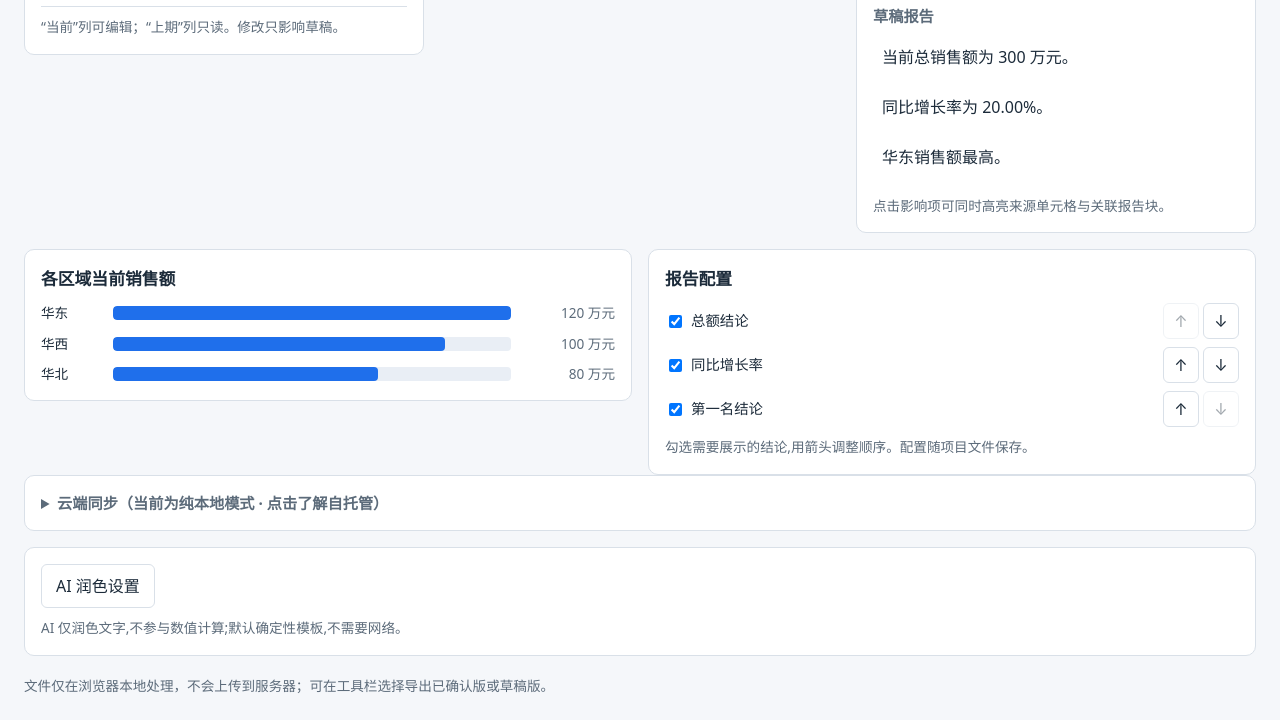
Test: AI polish (opt-in) › shows a fallback notice when the provider fails
(page scrolled)
Step 1. Click the button "AI 润色设置" → (98, 586), box [41,564,155,608]
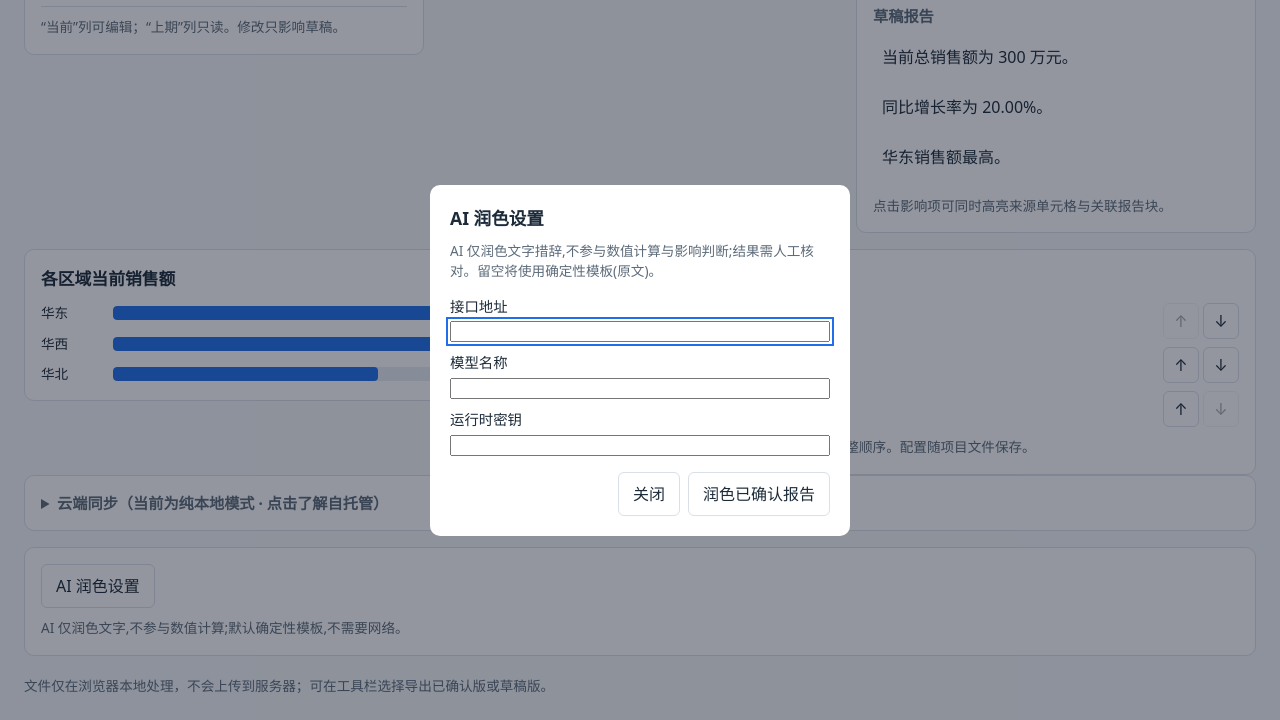
Step 2. Type "https://api.example.com/v1/polish" into the field labelled "接口地址" → (640, 332), box [450,321,830,342]
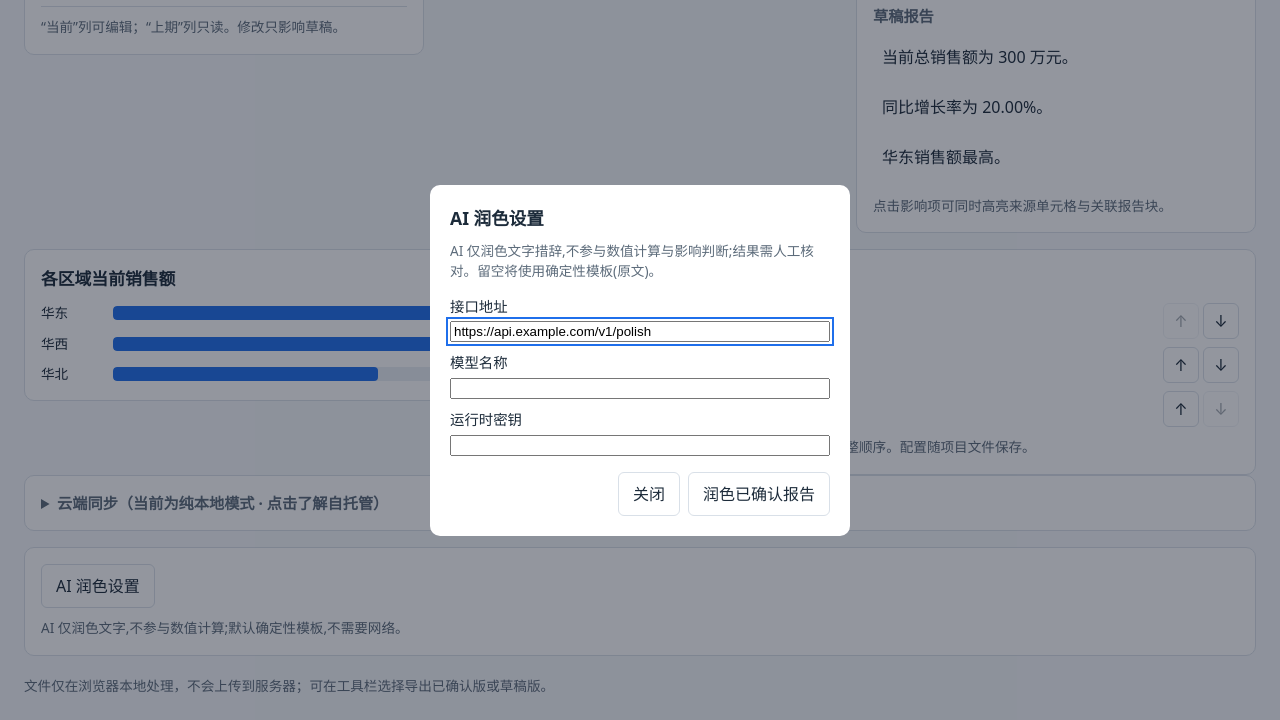
Step 3. Type "test-model" into the field labelled "模型名称" → (640, 388), box [450,378,830,399]
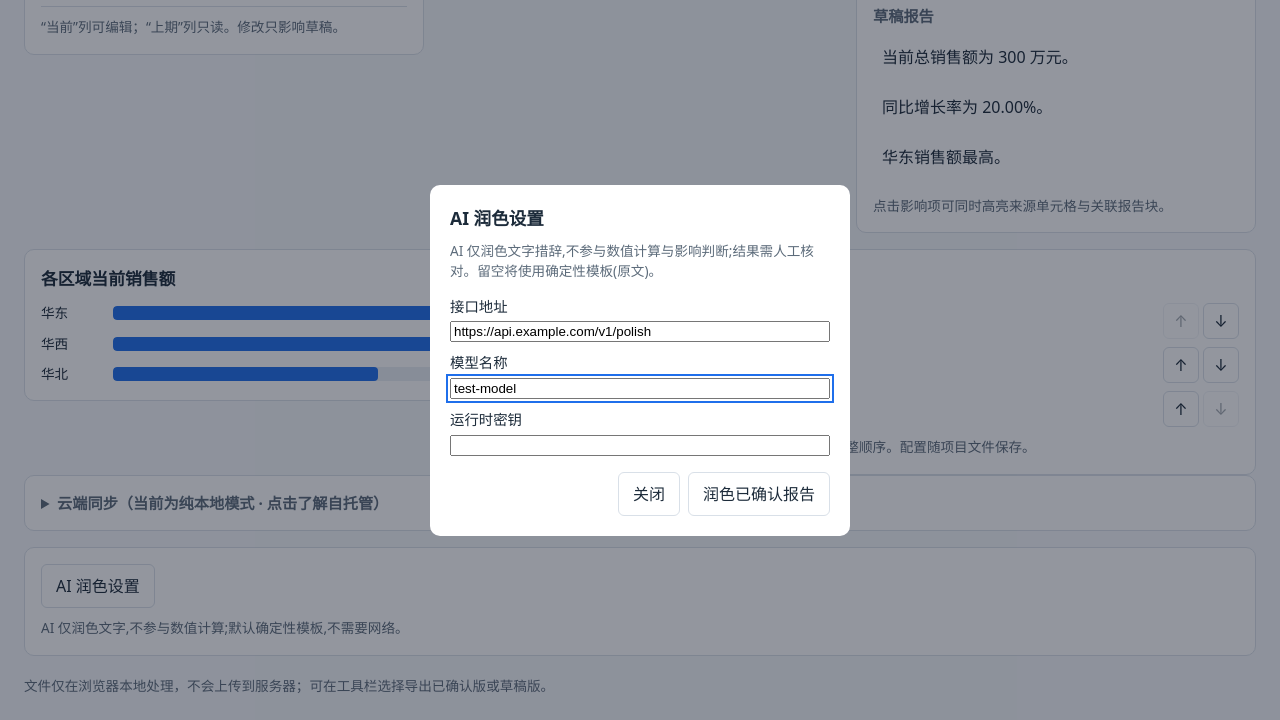
Step 4. Type "k" into the password field labelled "运行时密钥" → (640, 445), box [450,434,830,456]
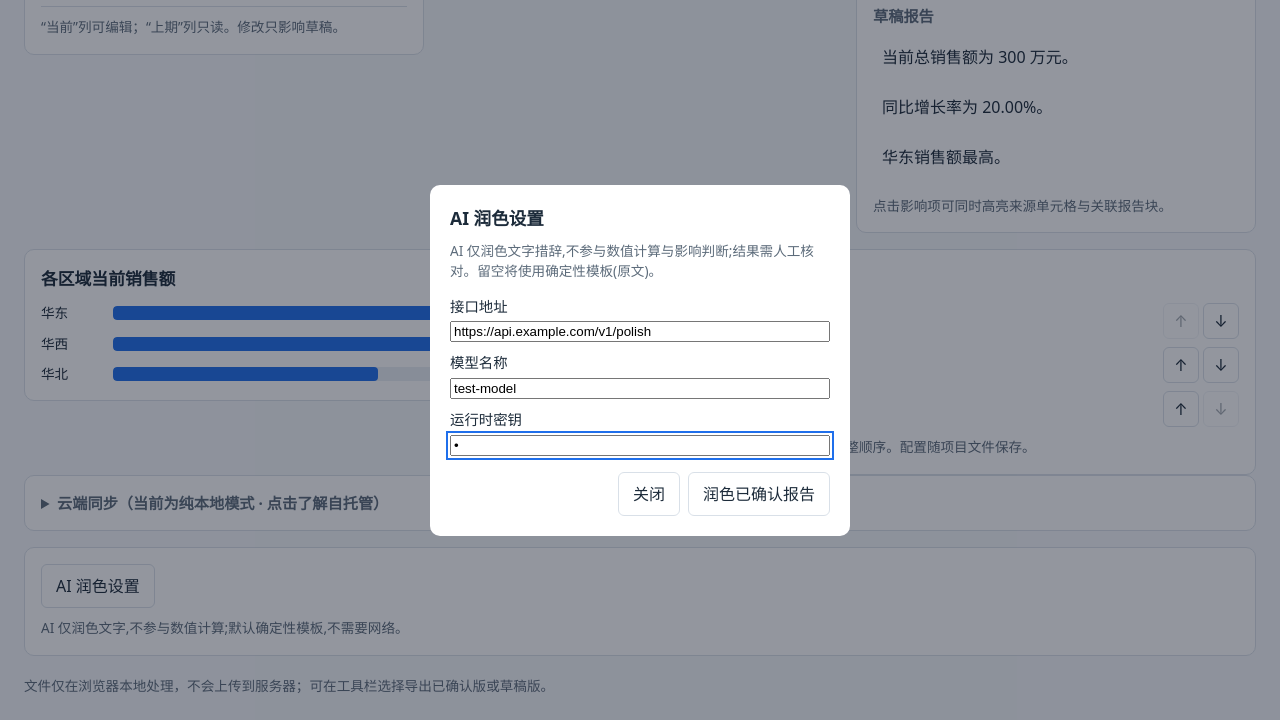
Step 5. Click the button "润色已确认报告" → (759, 494), box [688,472,830,516]
(page scrolled)
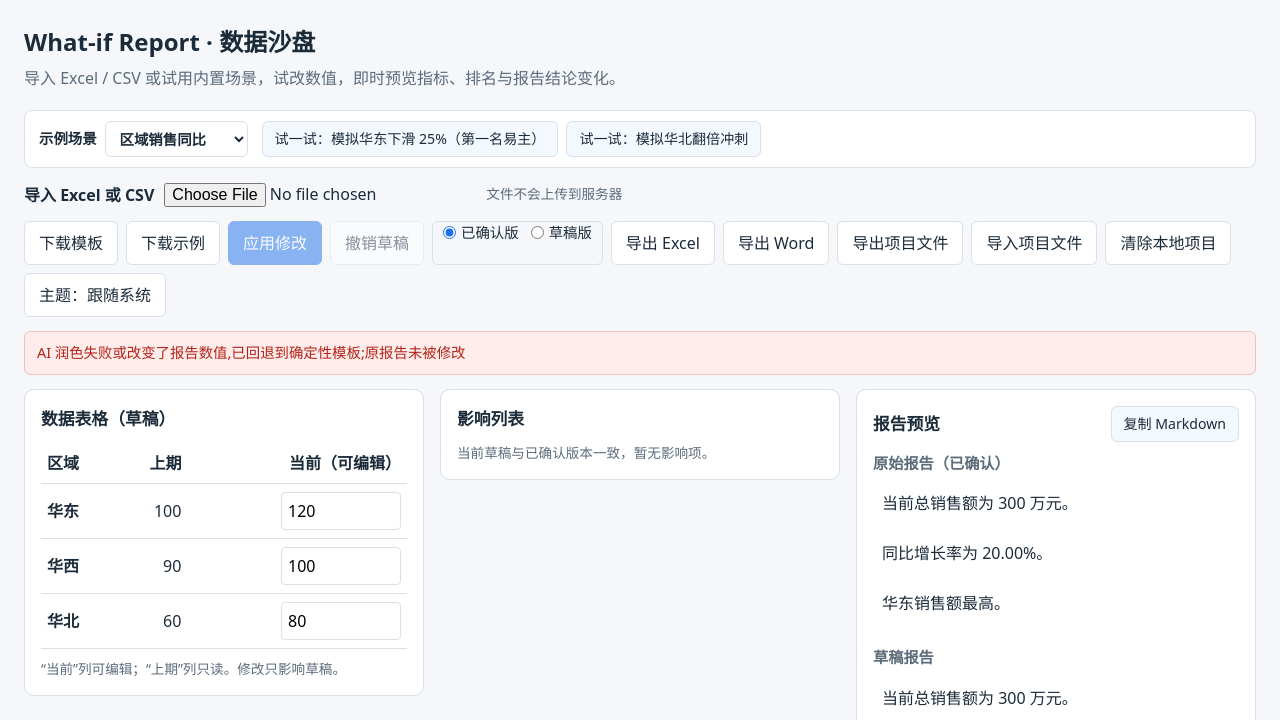
Expected: the message shows "确定性模板", [37,343,466,362]
